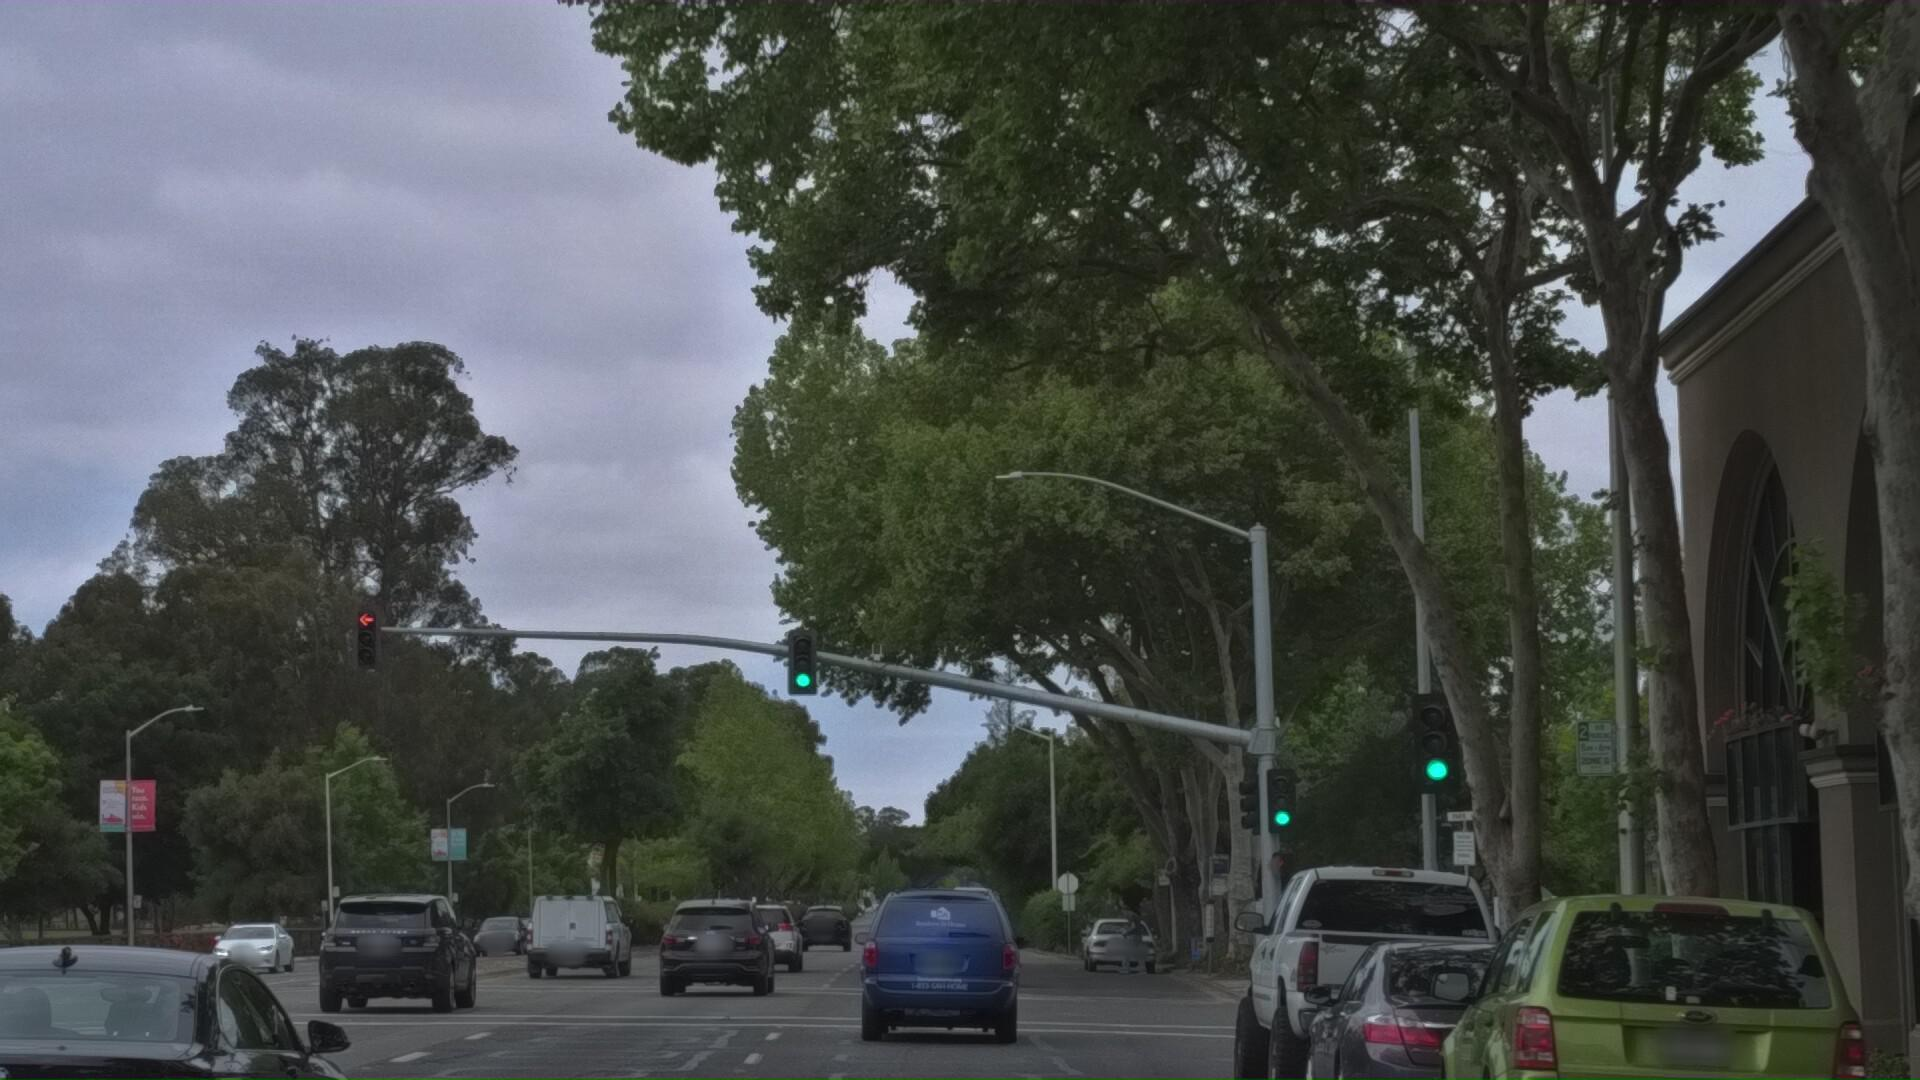car: (1441, 897, 1920, 1080), (1240, 874, 1578, 1080), (0, 934, 415, 1080), (1307, 949, 1656, 1080), (856, 899, 1044, 1080), (320, 930, 506, 1075), (654, 932, 786, 1052), (525, 927, 640, 1029), (1785, 996, 1920, 1080), (0, 907, 47, 1080)
